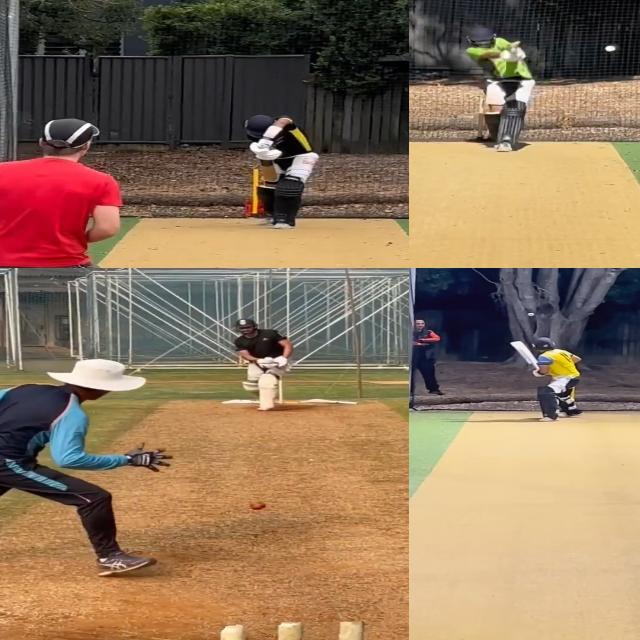Cricket ball: (601, 43, 620, 54), (249, 500, 267, 510), (527, 314, 535, 318)
